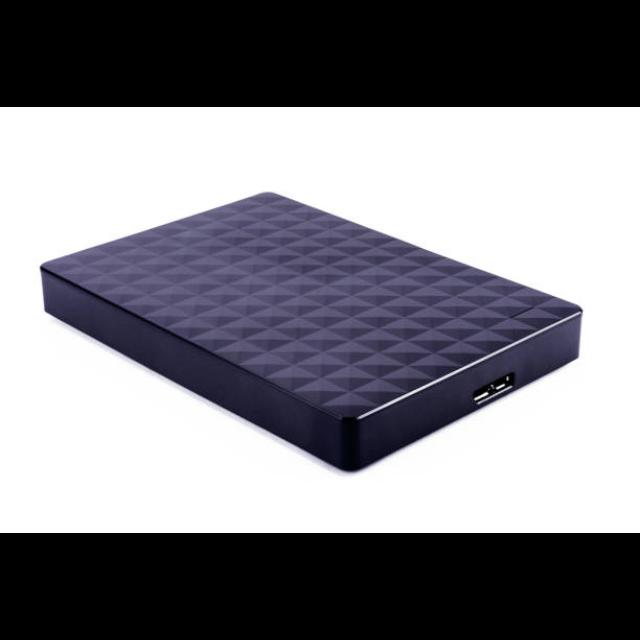HDD: (38, 192, 585, 475)
